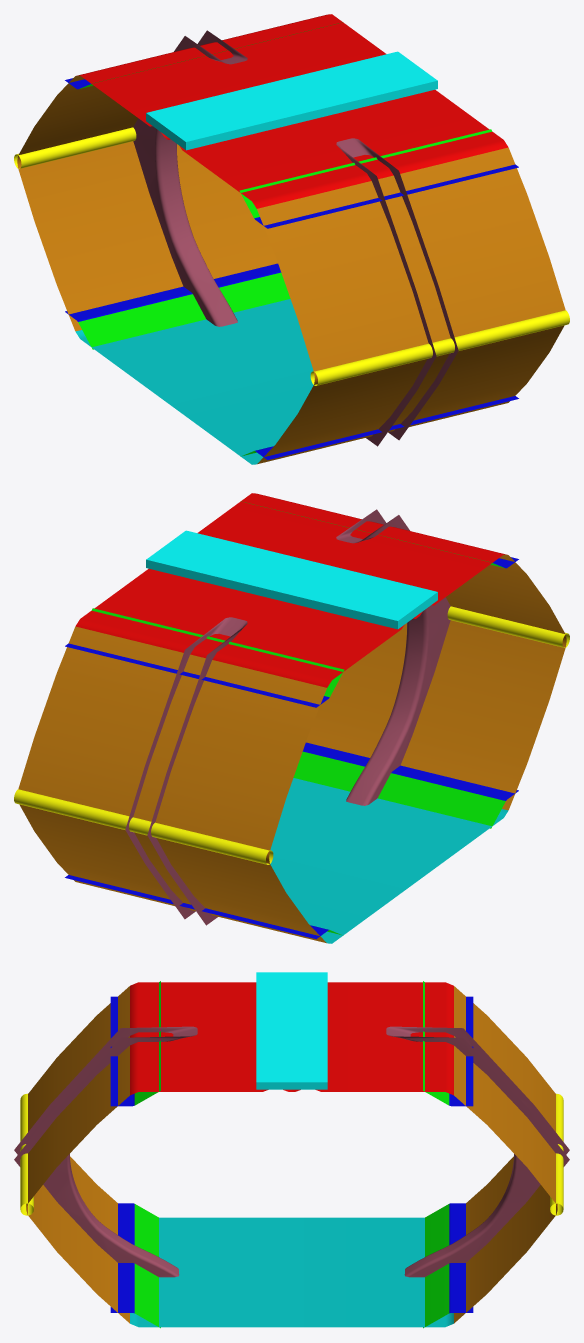
File: InnerCorridorB.fbx
3 renders of one model, top to bottom at view 1: azimuth 30°, elevation 25°; view 2: azimuth 150°, elevation 25°; view 3: azimuth 270°, elevation 25°, orthographic. The views are drawn at different scales.
Visible parts, largest first — view 1: merged_mid; view 2: merged_mid; view 3: merged_mid.
Boxes of the visible parts, x1,y1,x2,y2 form: merged_mid: [14, 14, 569, 464]; merged_mid: [14, 493, 569, 943]; merged_mid: [14, 972, 569, 1328].
Bounding box in the file's own units: 400 × 420 × 856.
